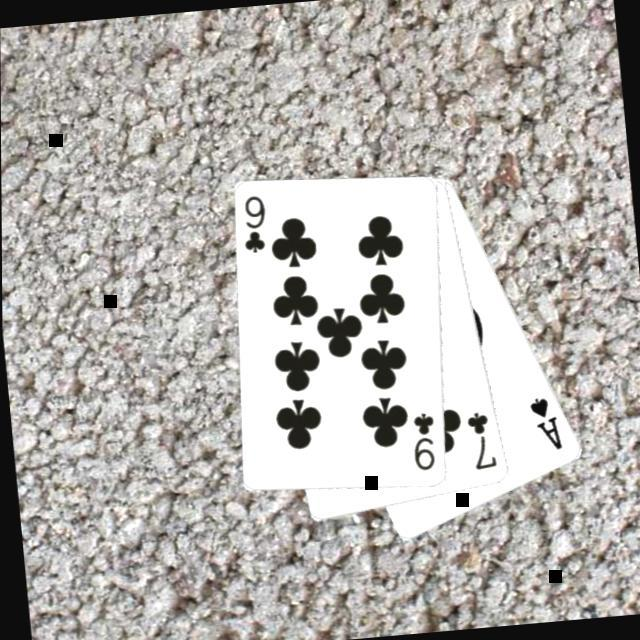7C: (464, 405, 501, 472)
9C: (238, 190, 273, 256), (409, 406, 442, 472)
AS: (527, 391, 566, 453)
